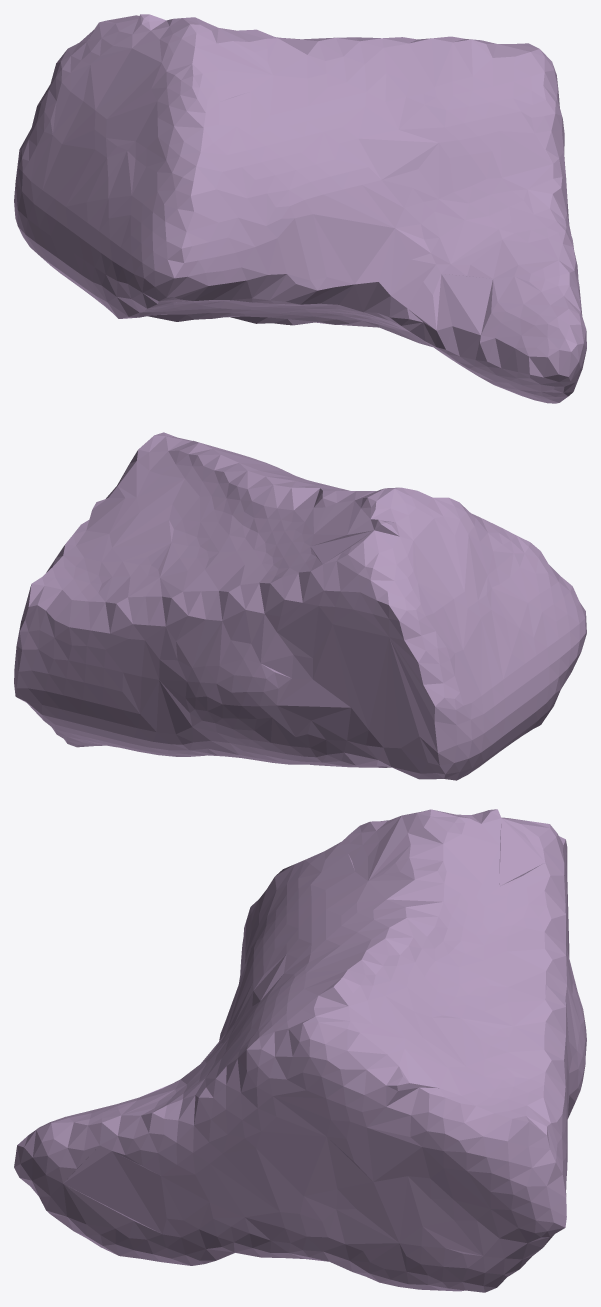
The model's file is Model_80_RH__Auditory_cortex__middle_lateral_area_(AuML).obj.
3 renders of one model, top to bottom at view 1: azimuth 30°, elevation 25°; view 2: azimuth 150°, elevation 25°; view 3: azimuth 270°, elevation 25°, orthographic. The views are drawn at different scales.
Bounding box in the file's own units: 2.4 × 1.6 × 2.45.
